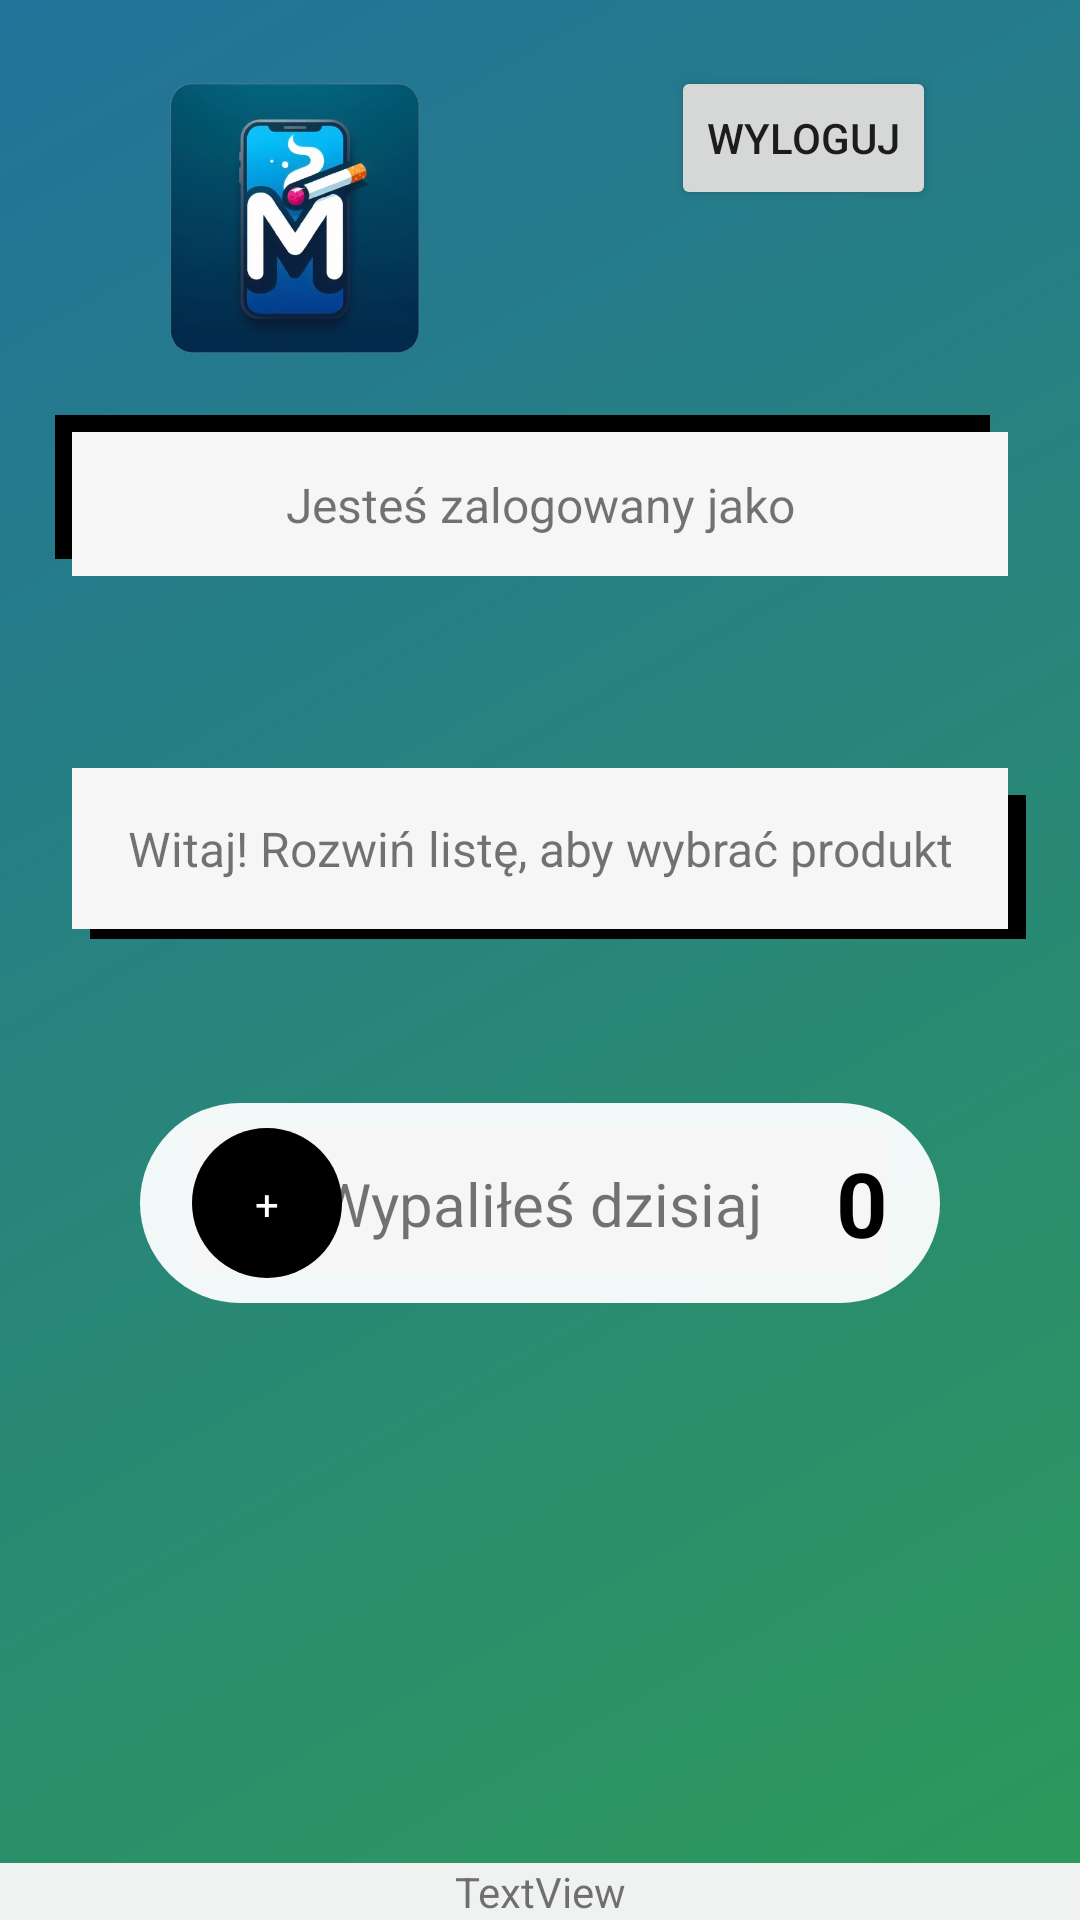

Where to tap for icons on this 1080x1920 app screen, as (x=x, y=y):
mobilniacyappicon: (x=295, y=218)
